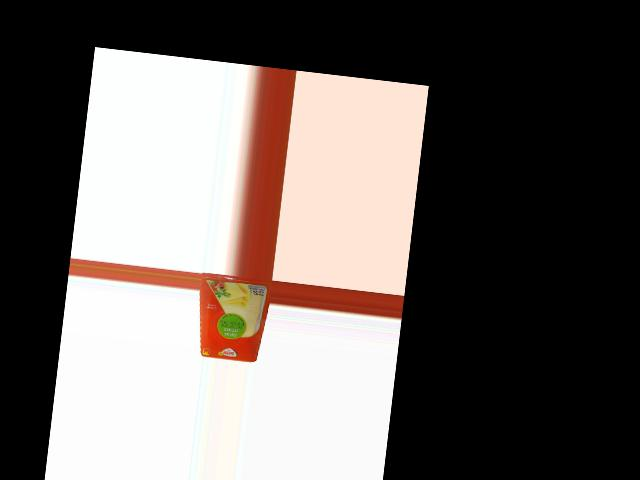cheese: (191, 271, 270, 363)
